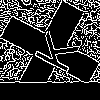K: (25, 25, 81, 75)
